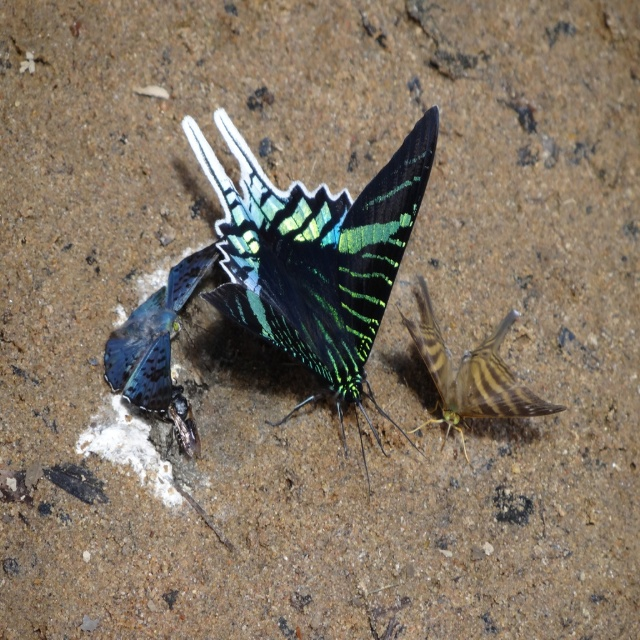Butterfly: (128, 87, 438, 482), (396, 275, 564, 468), (99, 235, 224, 425)
